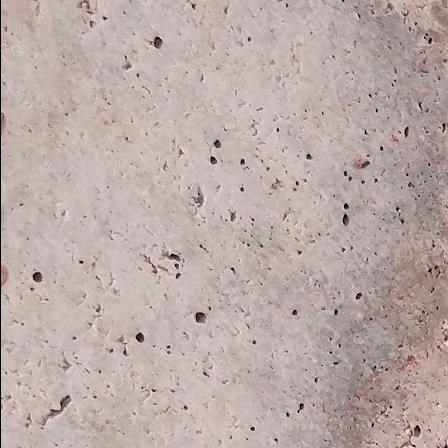hole: (132, 330, 147, 345), (195, 312, 206, 325)
spalling: (394, 420, 429, 448)
